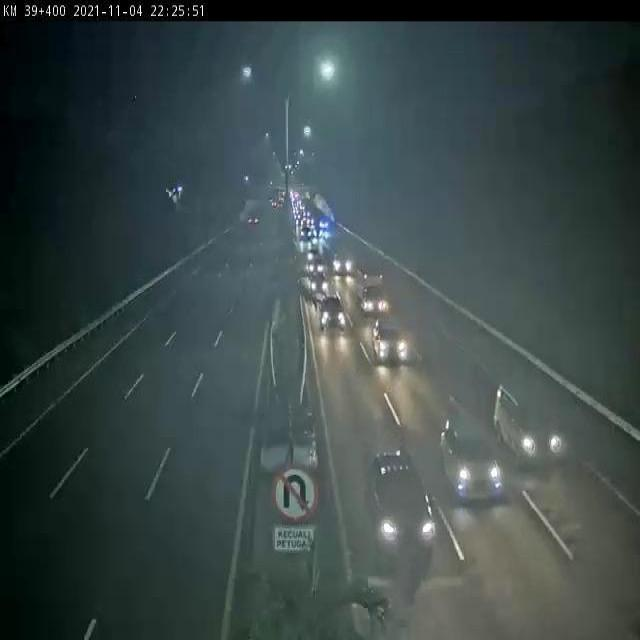car: (362, 451, 440, 578), (496, 363, 568, 493), (436, 406, 505, 530), (369, 317, 418, 373), (312, 291, 350, 336)
truck-s-: (355, 272, 395, 321)
